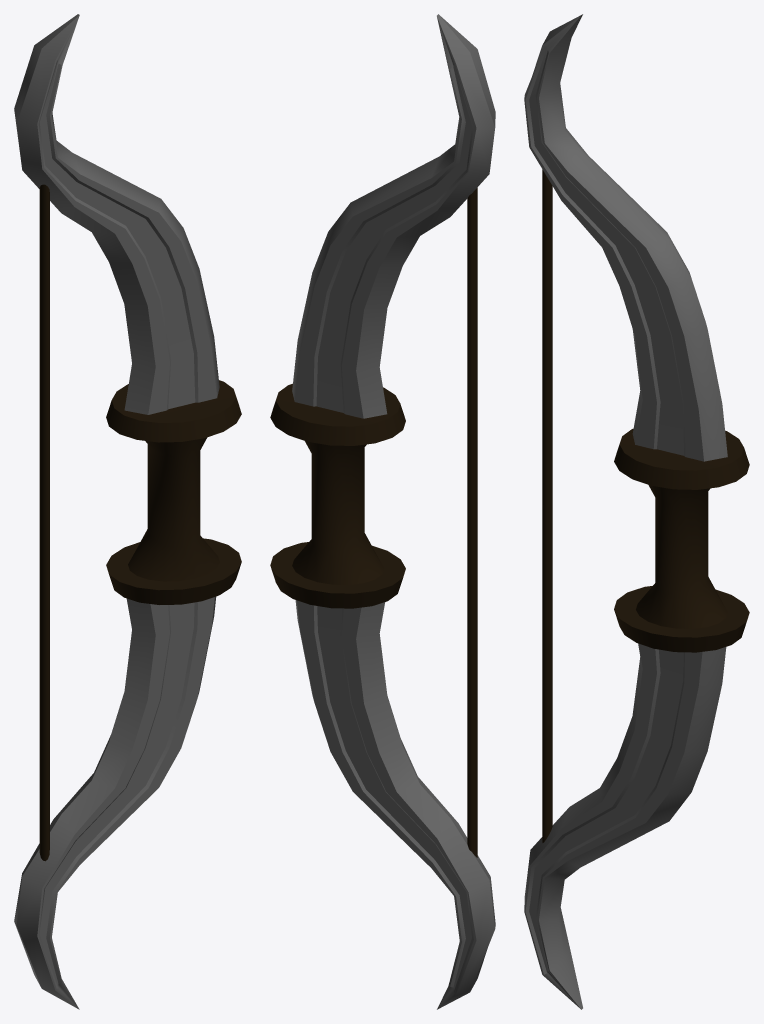
The model's file is uv bow.fbx.
3 views of the same model, side by side, from view 1: azimuth 30°, elevation 25°; view 2: azimuth 150°, elevation 25°; view 3: azimuth 330°, elevation 25° (orthographic).
Visible parts, largest first — view 1: Bow; view 2: Bow; view 3: Bow.
Part boxes in pixels (left/top/right/bottom): Bow: left=14, top=14, right=241, bottom=1009; Bow: left=270, top=14, right=495, bottom=1009; Bow: left=524, top=14, right=749, bottom=1009.
Bounding box in the file's own units: 23.29 × 102 × 11.42.
